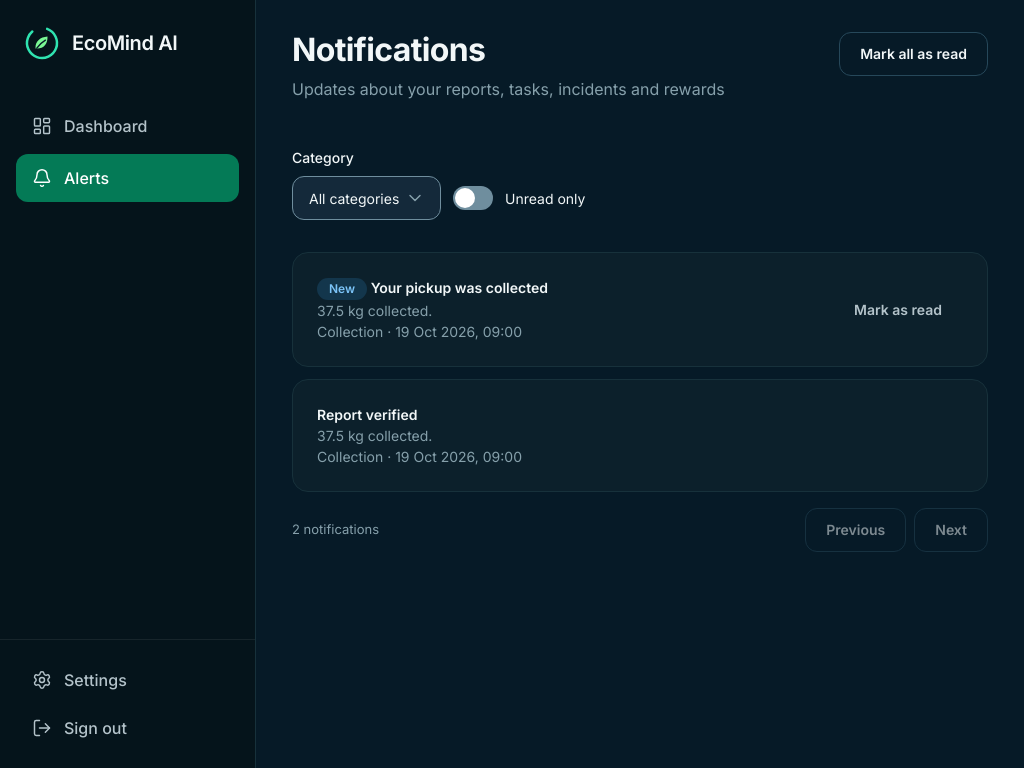
Test: notifications page › lists notifications, marks one as read and refreshes
The width and height of the screenshot is (1024, 768).
expect the list item "Your pickup was collected" is shown: met, box [371,279,548,296]
expect the text "New" is shown: met, box [317,278,367,300]
Click the button with aria-label "Mark as read: Your pickup was collected" at (898, 310), box [833,288,963,332]
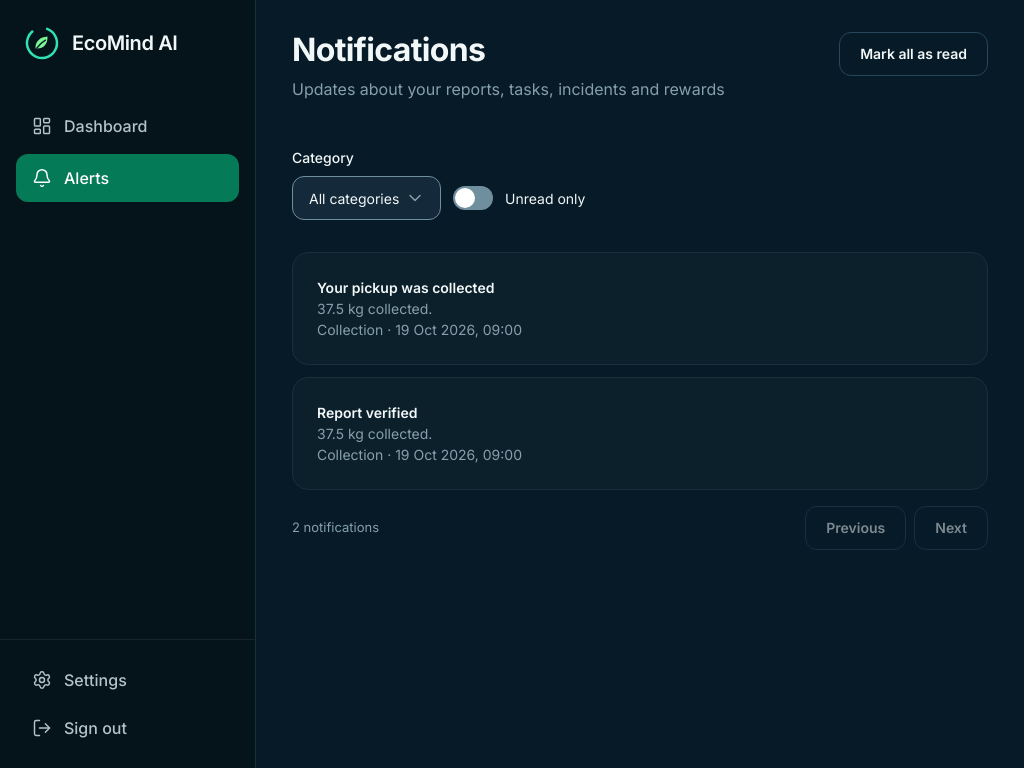
expect the text "New" is gone: met
